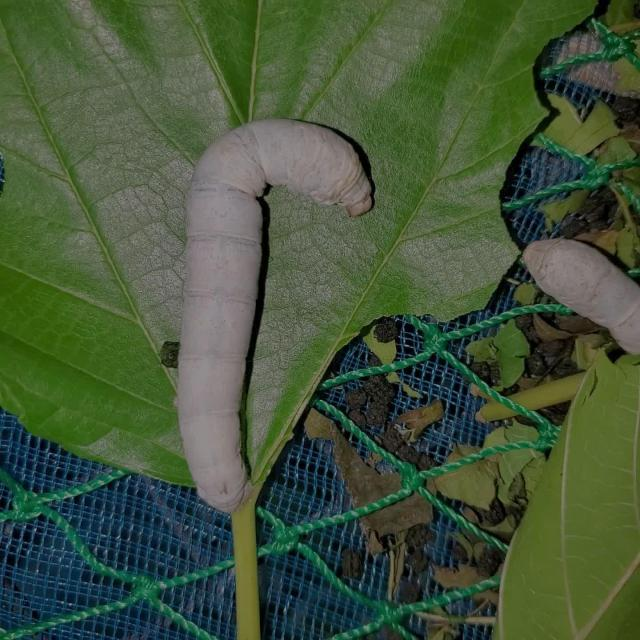Healthy: (171, 105, 376, 515)
